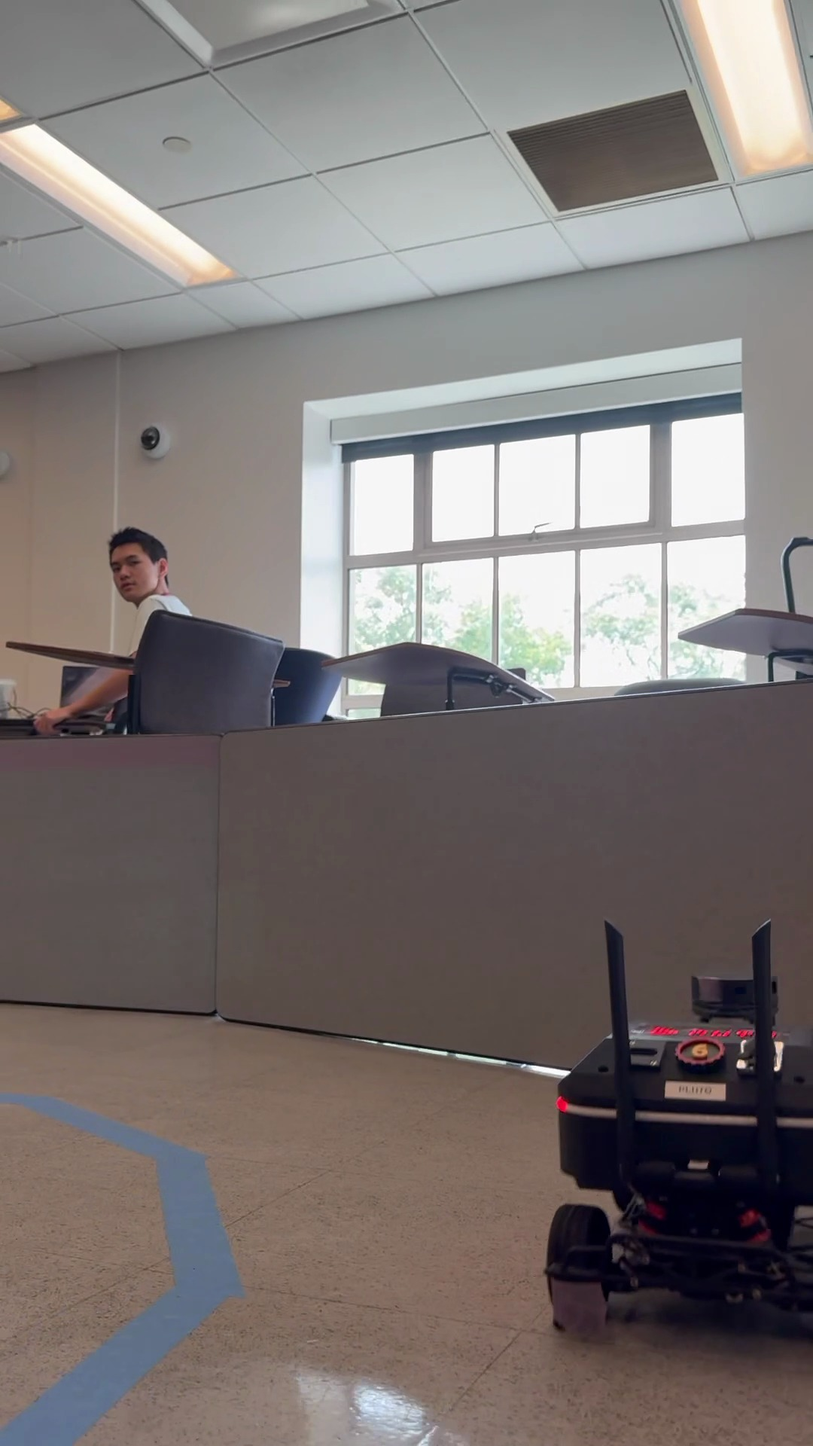racecar: (546, 915, 807, 1338)
